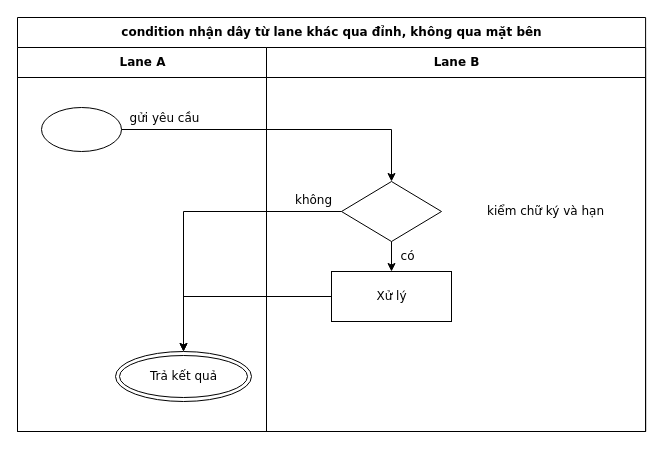
Some shapes in this 664 by 449 pixel diagram are drawn without their labels. The centre of each missing label's shape, as x and y in pixels:
Hợp lệ?: the point at 391,211
Vào: the point at 81,129
